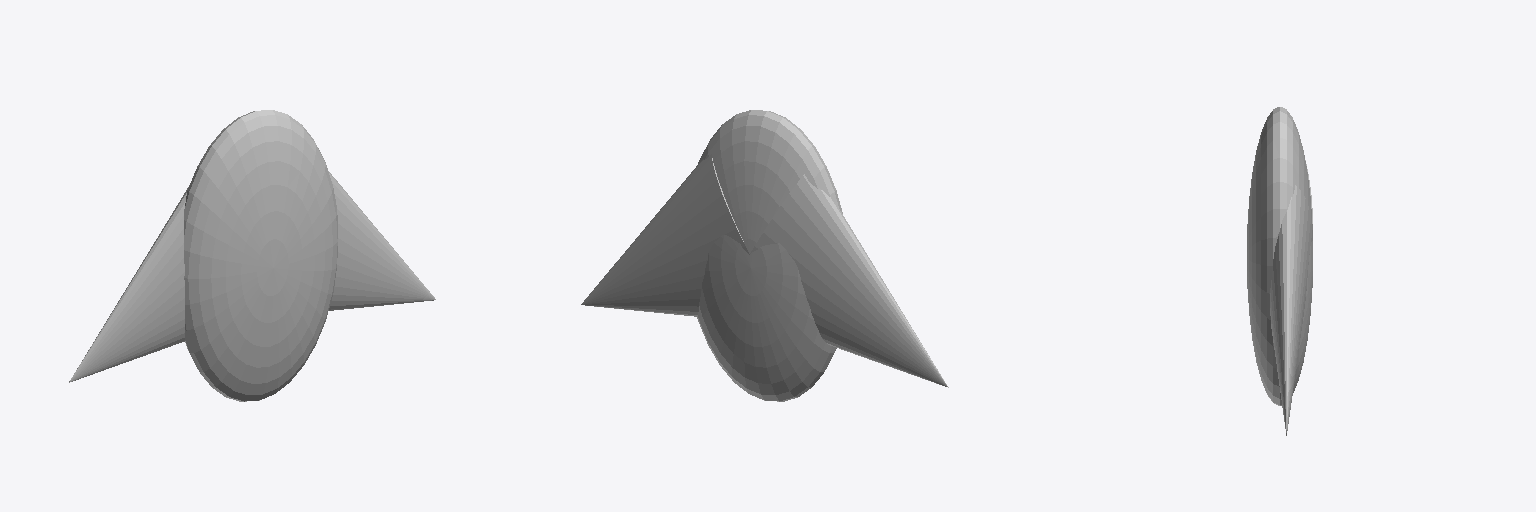
Rendered from lightwave_prototype.obj.
3 views of the same model, side by side, from view 1: azimuth 30°, elevation 25°; view 2: azimuth 150°, elevation 25°; view 3: azimuth 270°, elevation 25° (orthographic).
Bounding box in the file's own units: 31.89 × 24 × 5.